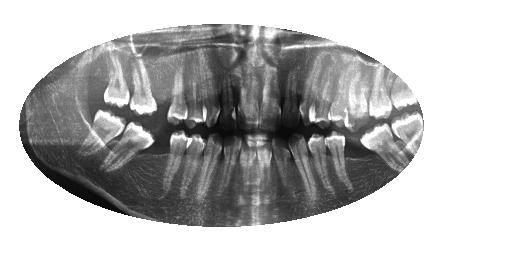Cavity: (289, 132, 316, 205), (270, 135, 292, 187)
Fillings: (123, 58, 160, 117), (83, 109, 127, 155), (101, 57, 129, 107), (367, 68, 393, 119)
